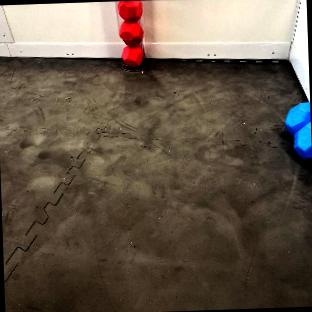V5_BLUE: (281, 101, 312, 159)
V5_RED: (119, 21, 144, 44), (123, 43, 144, 66), (118, 0, 141, 21)
